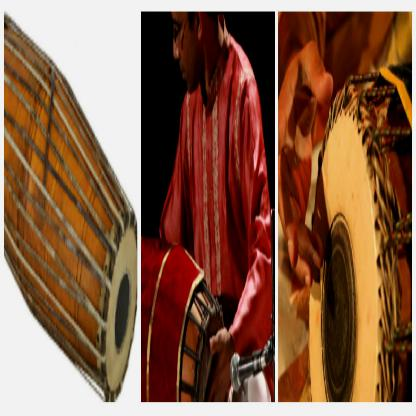Mridangam: (1, 1, 141, 399)
